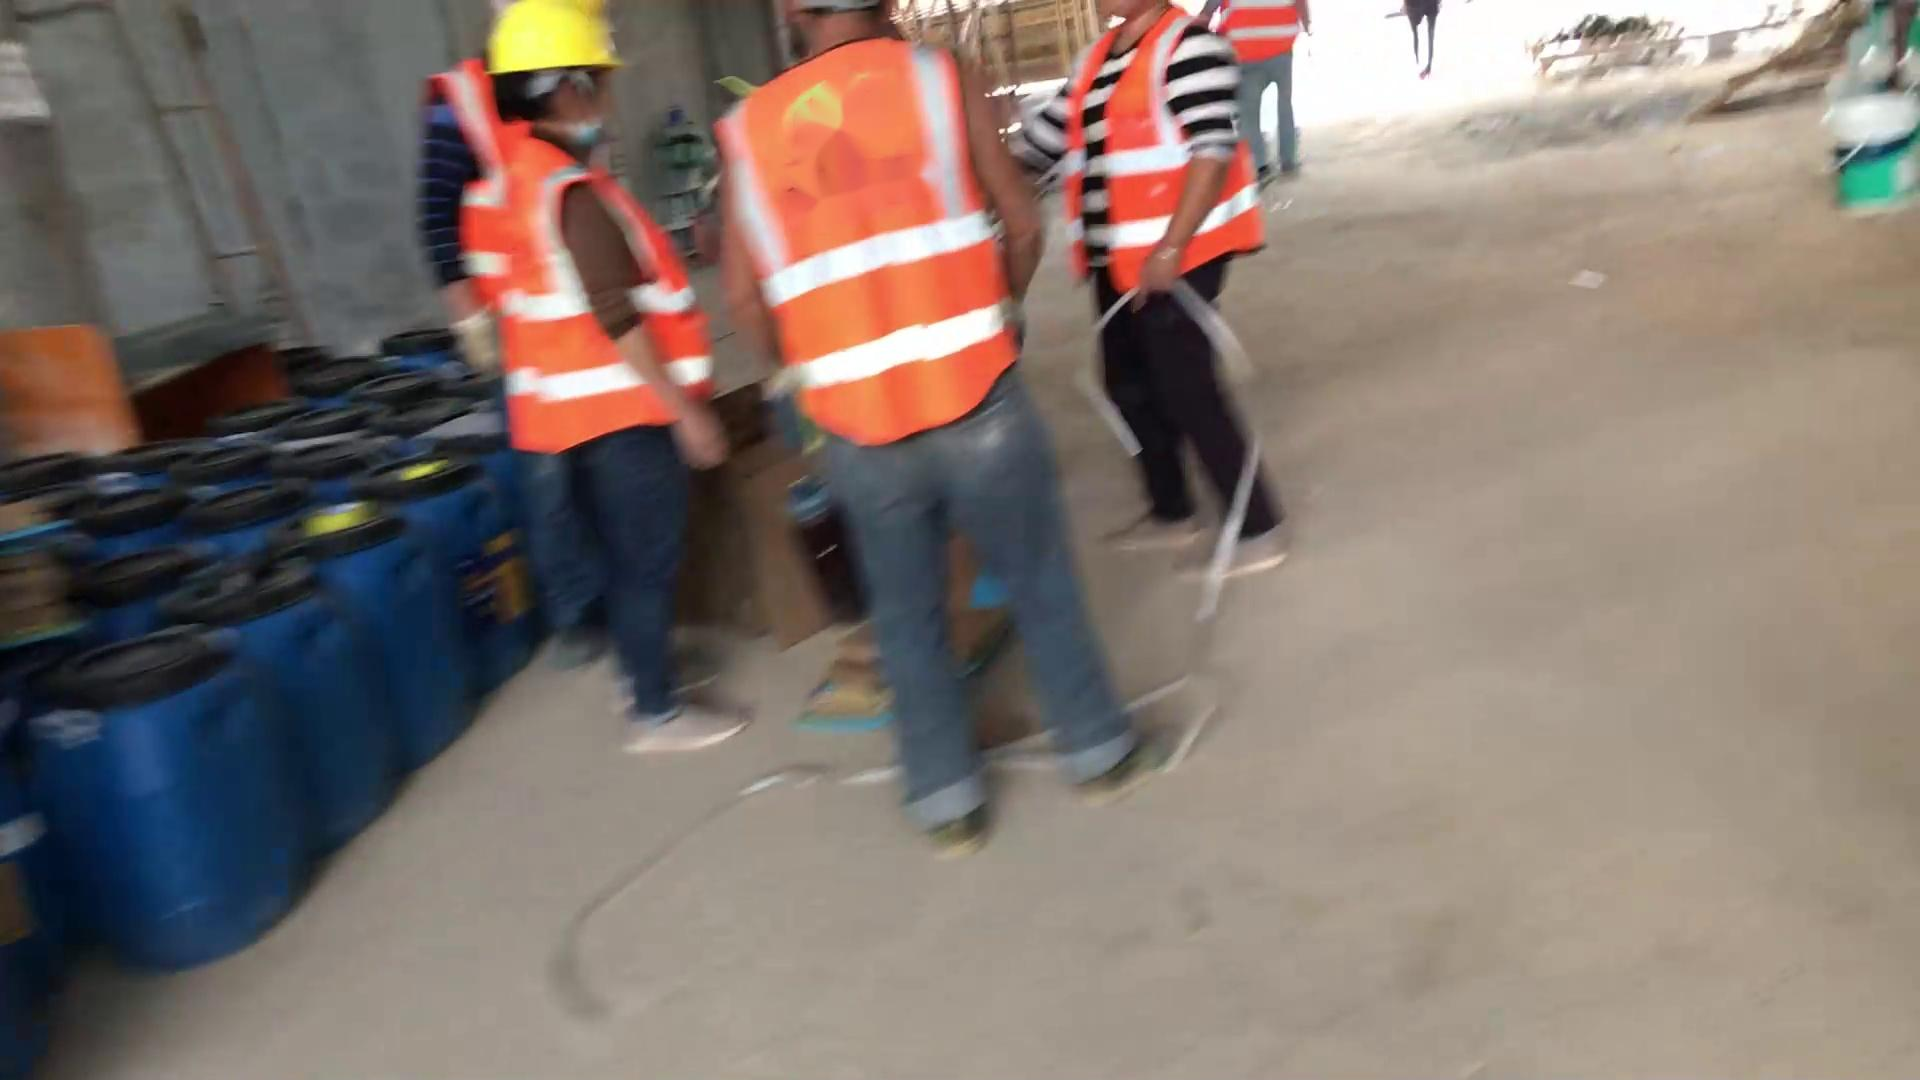helmet: (470, 1, 632, 101)
person: (704, 6, 1201, 864), (434, 1, 781, 771), (1017, 8, 1370, 628), (1202, 1, 1321, 180)
vest: (710, 34, 1041, 437), (480, 149, 715, 458), (1062, 12, 1281, 293), (1223, 1, 1314, 67)
